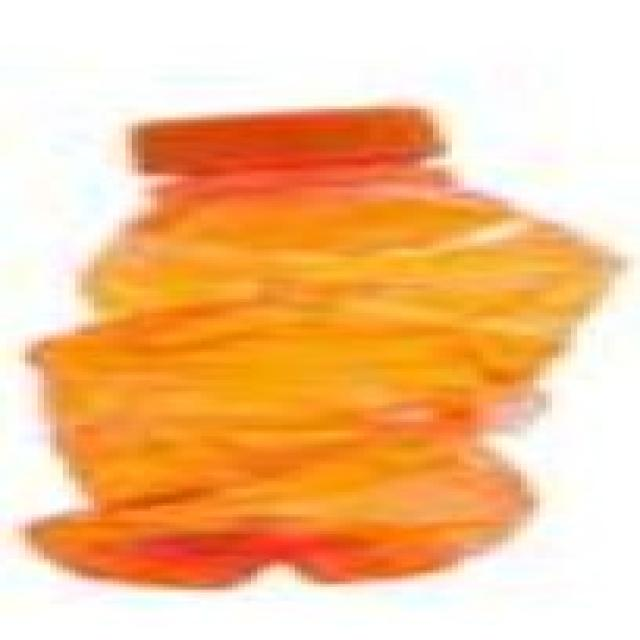general: (19, 103, 621, 587)
